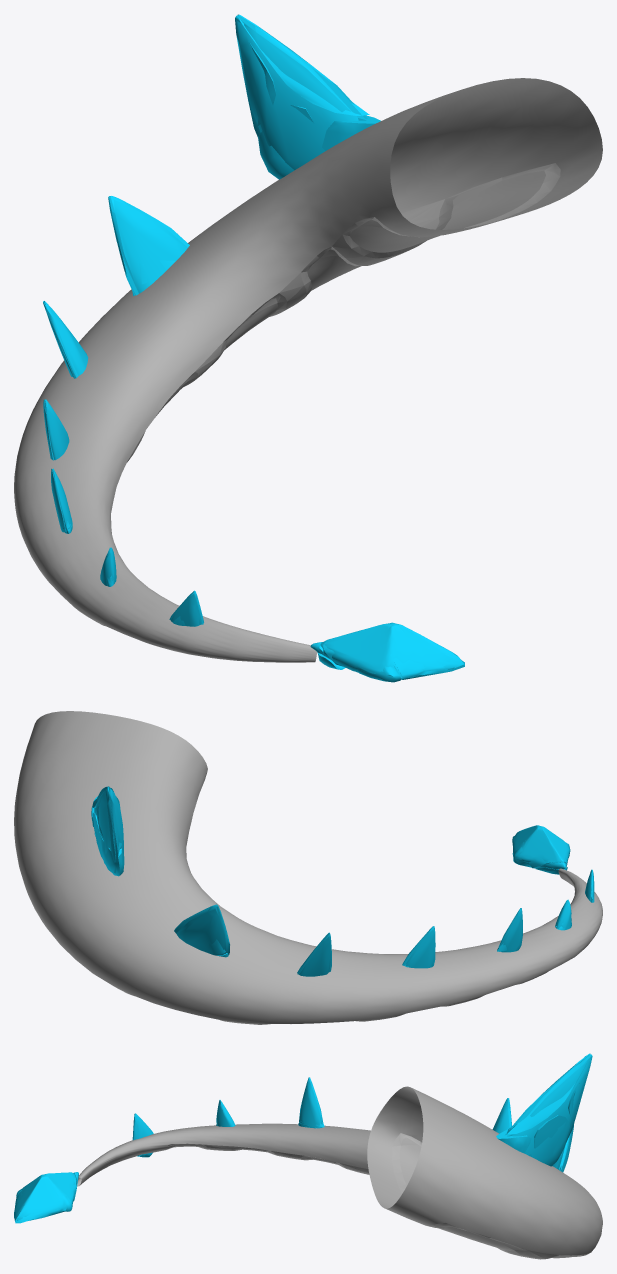
3 views of the same model, one above another, from view 1: azimuth 30°, elevation 25°; view 2: azimuth 150°, elevation 25°; view 3: azimuth 270°, elevation 25° (orthographic). The views are drawn at different scales.
Visible parts, largest first — view 1: 482, crystals_006, big_crystal; view 2: 482, crystals_006, big_crystal; view 3: 482, crystals_006, big_crystal.
Part boxes in pixels (bbox=[...]): 482: bbox=[14, 78, 602, 662]; crystals_006: bbox=[43, 14, 380, 626]; big_crystal: bbox=[310, 622, 464, 682]; 482: bbox=[14, 711, 602, 1024]; crystals_006: bbox=[91, 786, 594, 976]; big_crystal: bbox=[512, 825, 570, 874]; 482: bbox=[77, 1086, 602, 1259]; crystals_006: bbox=[132, 1053, 592, 1172]; big_crystal: bbox=[14, 1172, 78, 1223].
Size of the model in its own units: 91.47 by 101 by 43.82.
